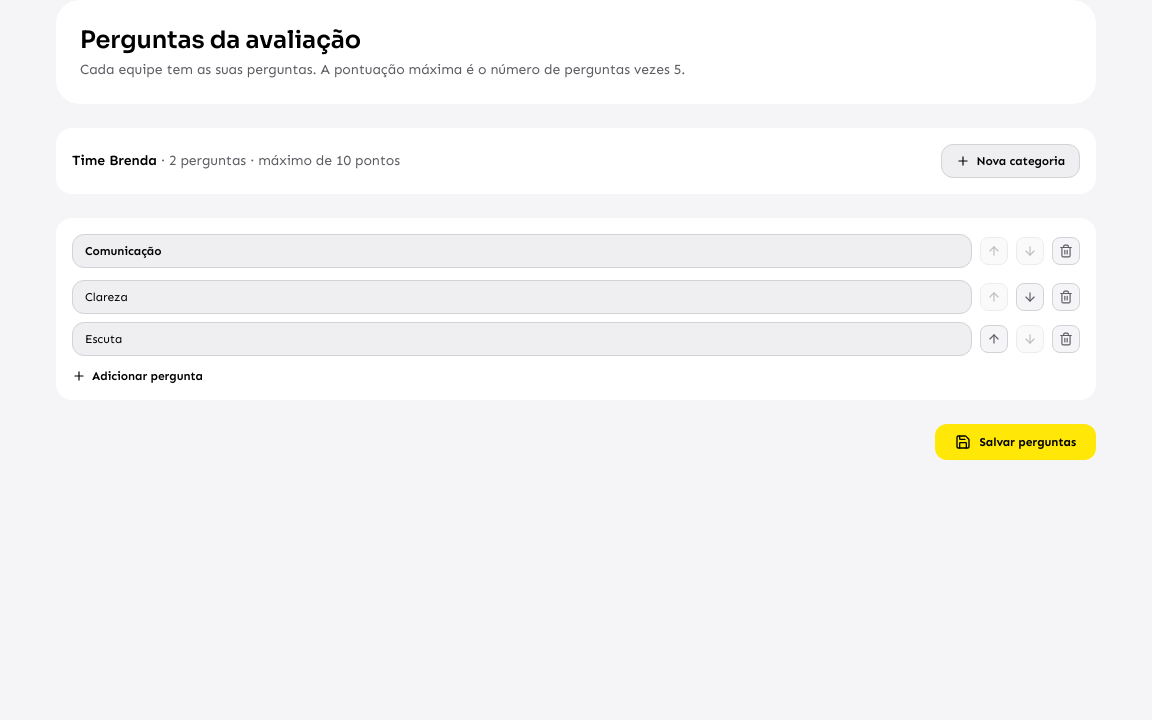
aba Perguntas › salva uma versão nova e mostra que avaliações antigas mantêm as perguntas
Expected: the text "· 2 perguntas · máximo de 10 pontos" is shown, 157,152 -> 400,169
Click the button "Adicionar pergunta" at x=137, y=376, box 72,368 -> 203,384
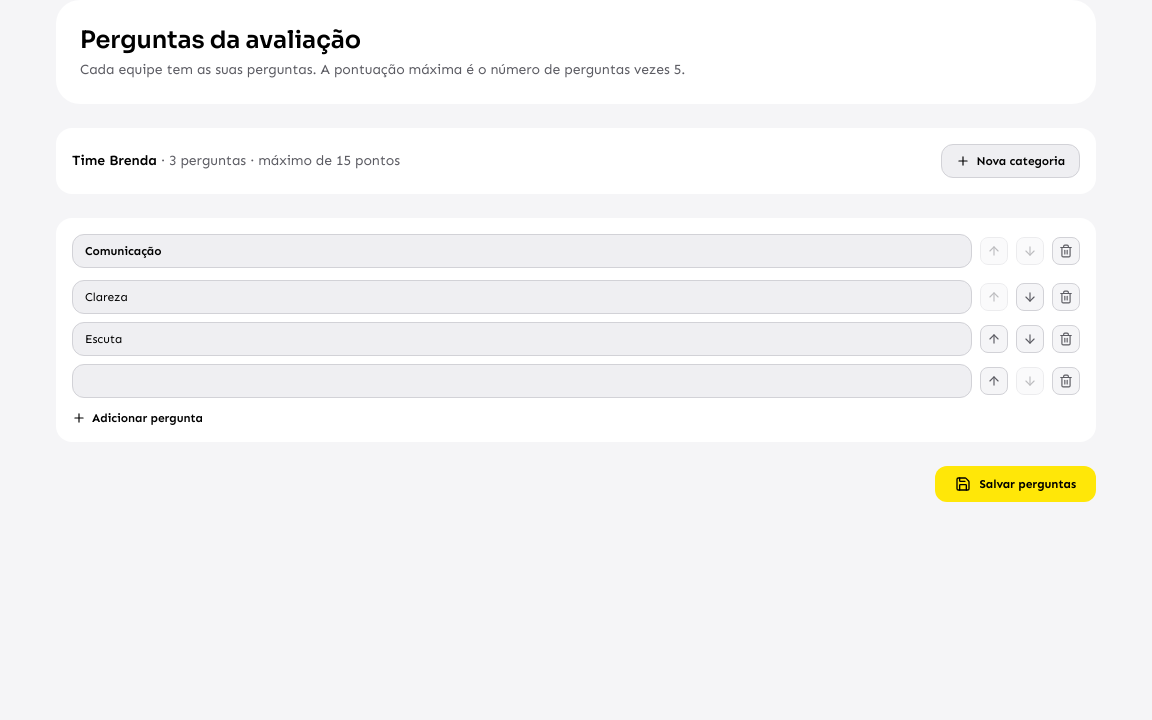
Type "Responde no prazo" into the field named "Pergunta 1.3" at x=522, y=381, box 72,364 -> 972,398
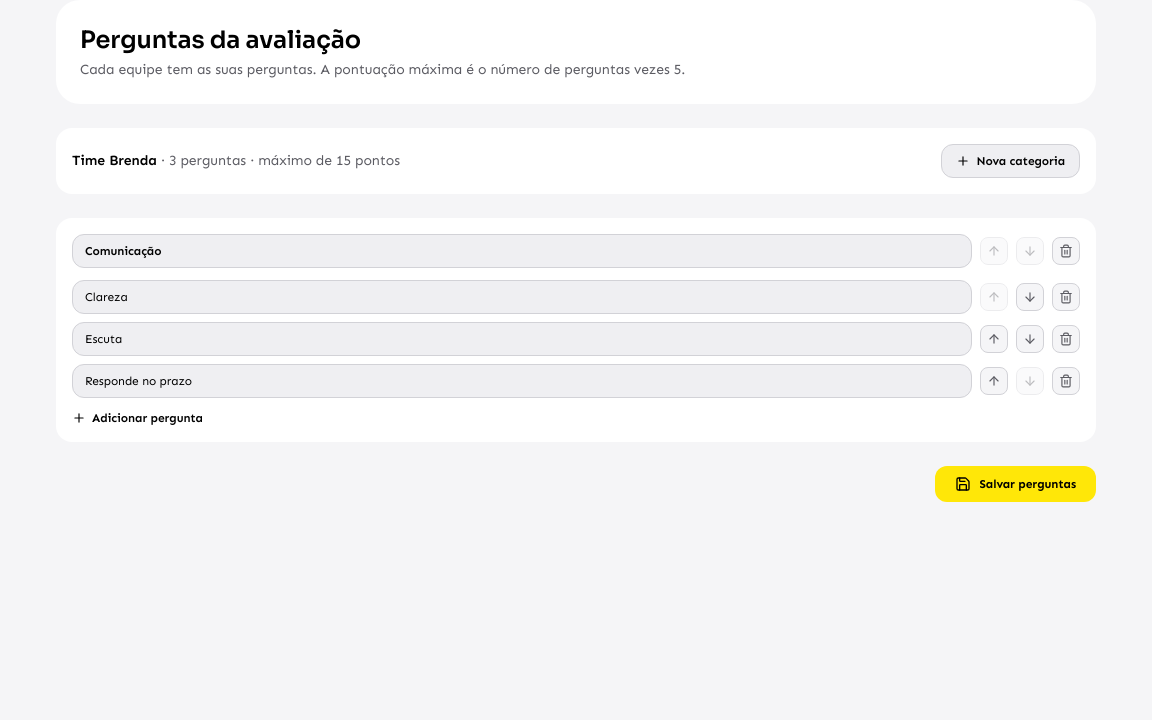
Click the button "Salvar perguntas" at x=1016, y=484, box 935,466 -> 1096,502
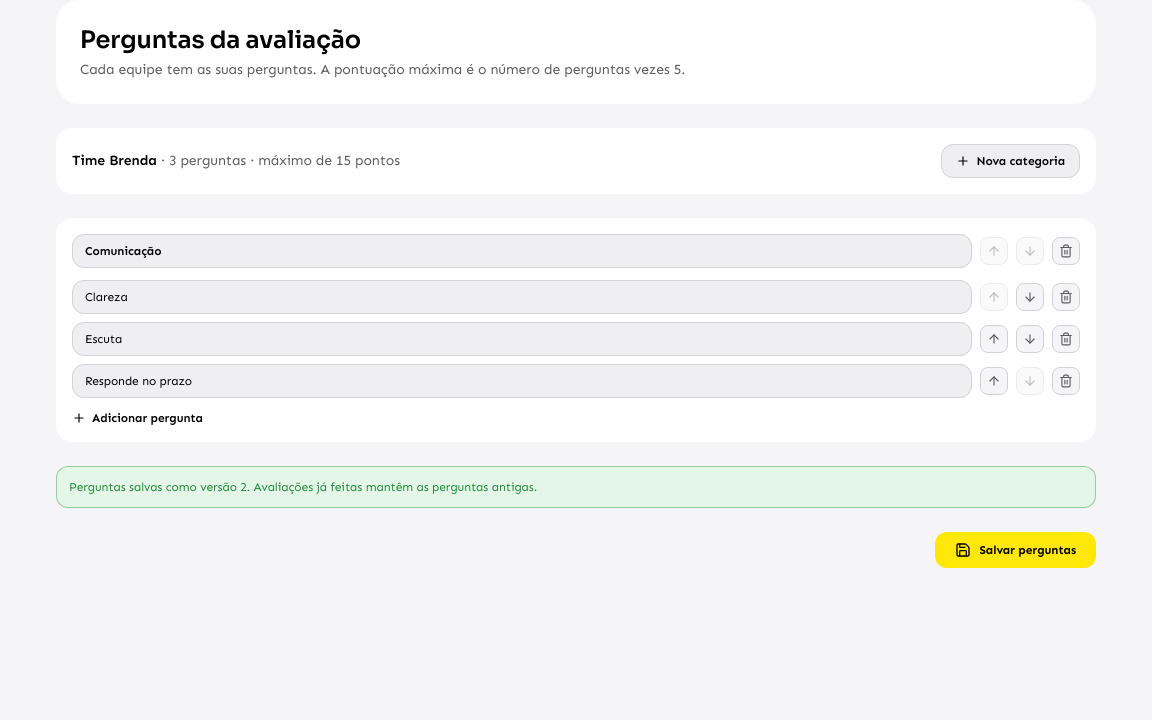
Expected: the text "Perguntas salvas como versão 2" is shown, 56,466 -> 1096,508
Expected: the text "Avaliações já feitas mantêm as perguntas antigas" is shown, 247,480 -> 537,494
